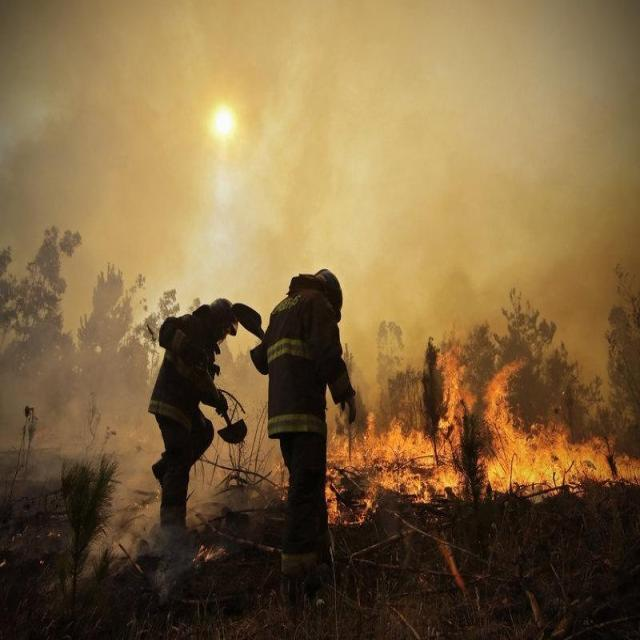Fire: (325, 344, 640, 528)
Smoke: (1, 208, 640, 603)
